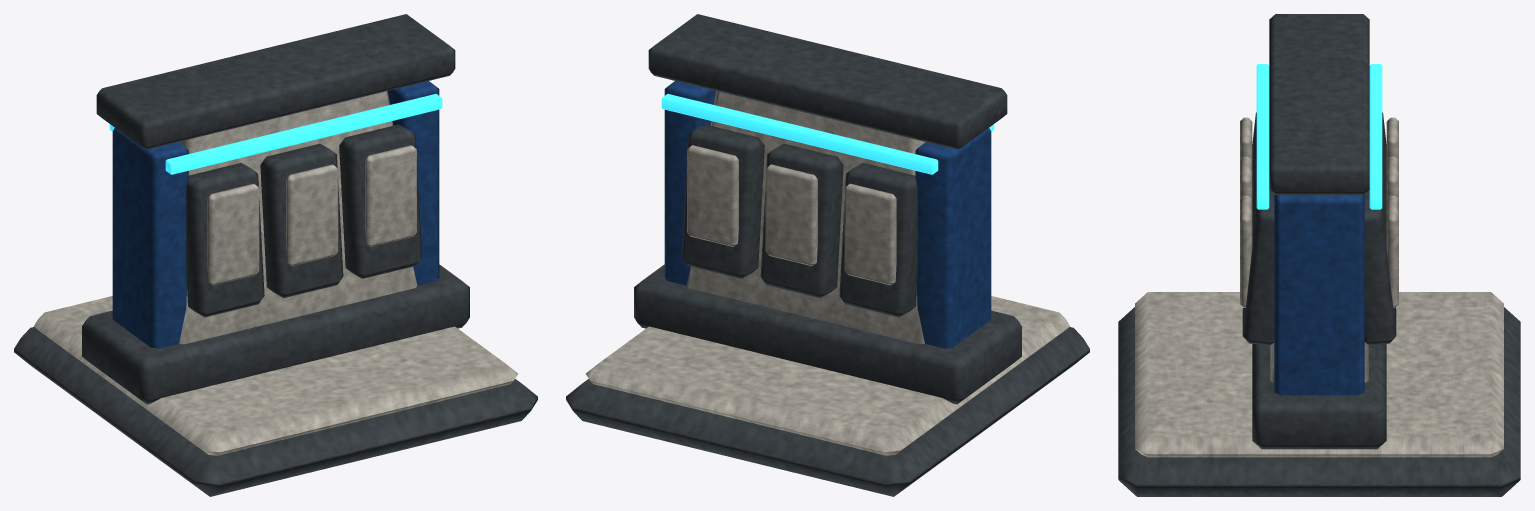
The model's file is solis_mur_de_plastacier.gltf.
The picture shows the model from 3 angles, left to right: view 1: azimuth 30°, elevation 25°; view 2: azimuth 150°, elevation 25°; view 3: azimuth 270°, elevation 25°; orthographic projection.
Visible parts, largest first — view 1: Building.006_Geometry; view 2: Building.006_Geometry; view 3: Building.006_Geometry.
Boxes of the visible parts, box(x1,y1,x2,y2) form: Building.006_Geometry: box(14, 14, 537, 496); Building.006_Geometry: box(566, 14, 1089, 496); Building.006_Geometry: box(1118, 14, 1520, 496).
Bounding box in the file's own units: 1.92 × 1.74 × 1.92.
4 materials, 3 textured.
